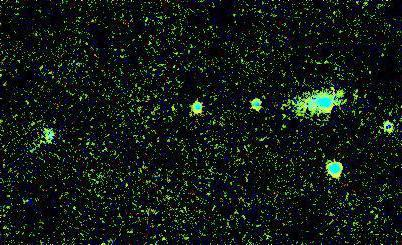star: (327, 76, 357, 106)
